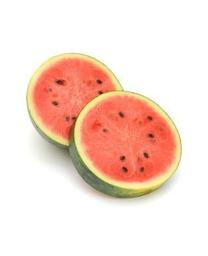watermelon: (26, 52, 182, 200)
